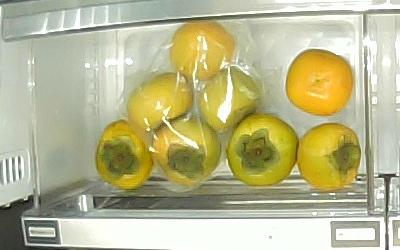persimmon: (226, 114, 298, 188), (286, 48, 352, 116), (297, 122, 362, 191), (96, 121, 153, 189)
persimmon_vinyl: (151, 116, 220, 186), (199, 66, 261, 131), (126, 72, 194, 131), (171, 20, 235, 81)
